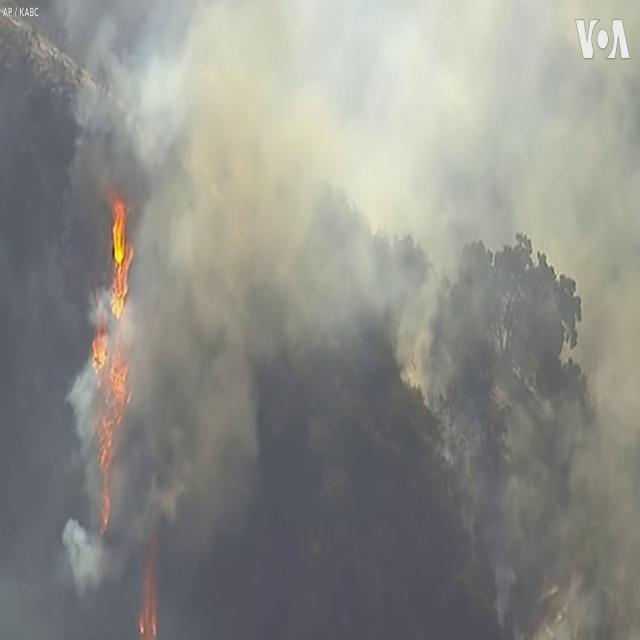Fire: (92, 196, 134, 536)
Smoke: (58, 191, 231, 600), (395, 240, 439, 404)
